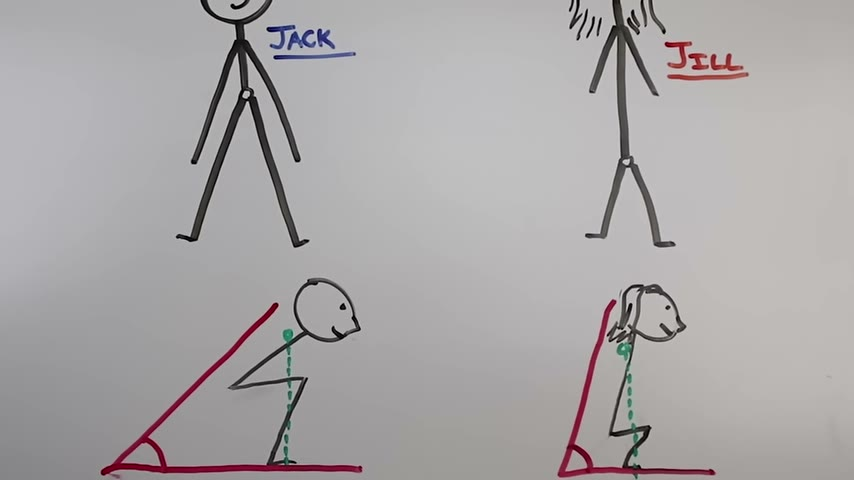barbell_plate_side: (294, 278, 363, 457), (305, 276, 365, 385)
